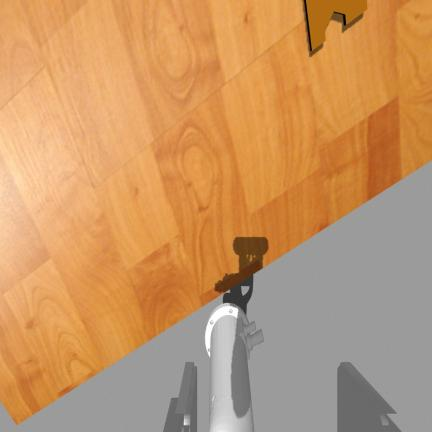cheese: (304, 0, 366, 50)
